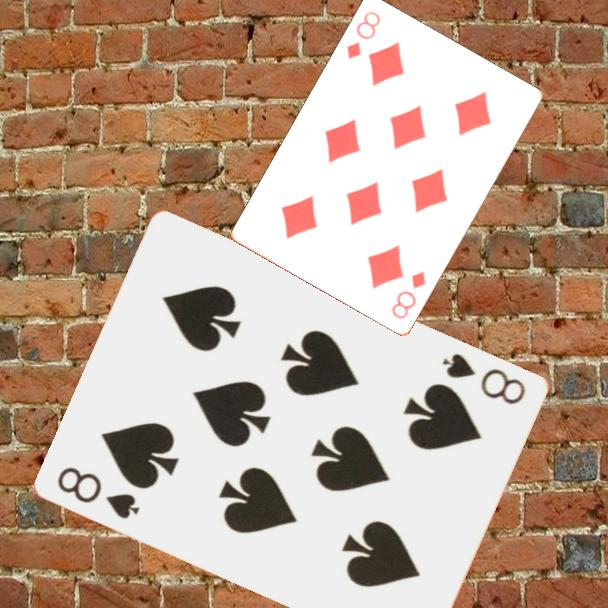d08: (388, 268, 429, 322), (343, 8, 384, 62)
s08: (54, 462, 144, 522), (439, 349, 530, 408)
